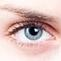eye: (25, 27, 43, 40)
